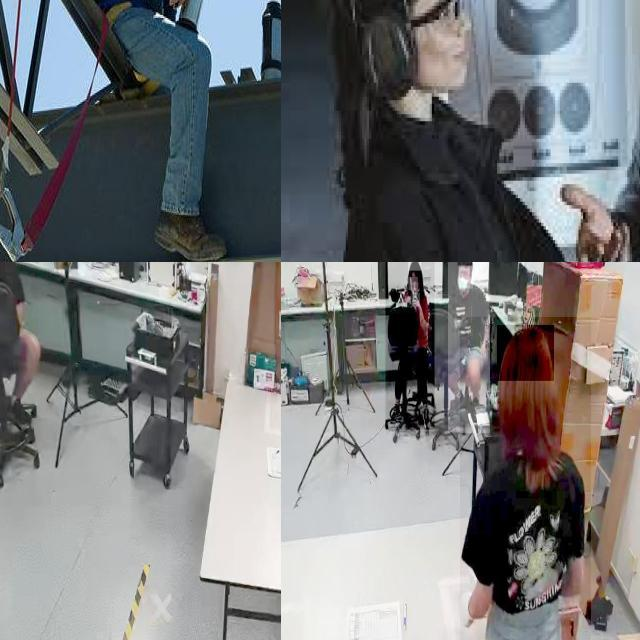Ear-protection: (349, 0, 420, 99)
Harness: (0, 77, 92, 262)
face_mask: (459, 266, 473, 288)
face_nomask: (408, 277, 418, 291)
hand_noglove: (412, 293, 421, 308), (480, 341, 486, 359)
head_nohelmet: (497, 325, 555, 382), (408, 262, 422, 271), (457, 262, 473, 266)
person: (293, 0, 547, 262), (460, 317, 591, 640), (385, 262, 434, 430), (0, 262, 39, 461), (448, 262, 490, 433)
shoes: (5, 391, 31, 429)
